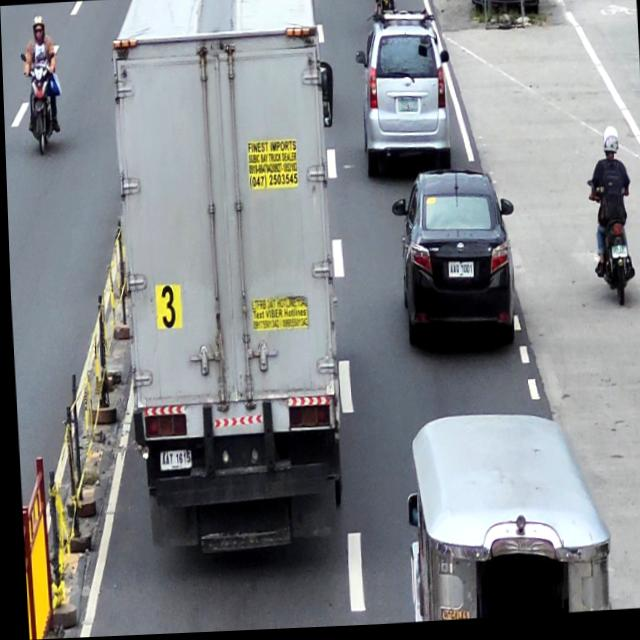Car: (389, 170, 518, 359), (352, 11, 454, 181)
Jeep: (396, 410, 609, 626)
License-Plate: (156, 450, 188, 472), (446, 264, 471, 282), (396, 101, 417, 116), (609, 250, 626, 263)
Motorcycle: (584, 180, 634, 312), (18, 49, 59, 156)
Truck: (107, 0, 355, 570)
